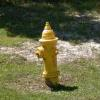Hydrant: (28, 9, 68, 90)
